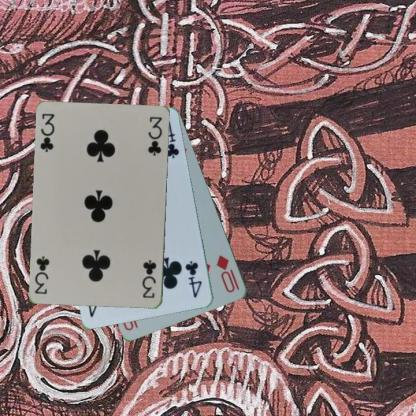10d: (214, 253, 241, 294)
3c: (140, 257, 158, 300), (38, 111, 56, 153)
4c: (182, 258, 204, 300)
